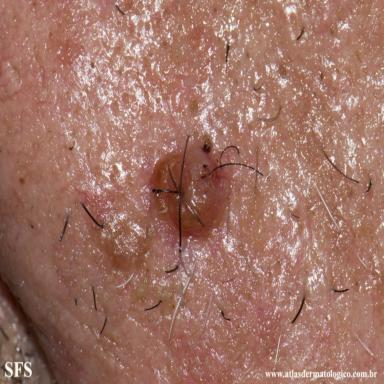basal-cell-carcinoma: (100, 211, 149, 271)
